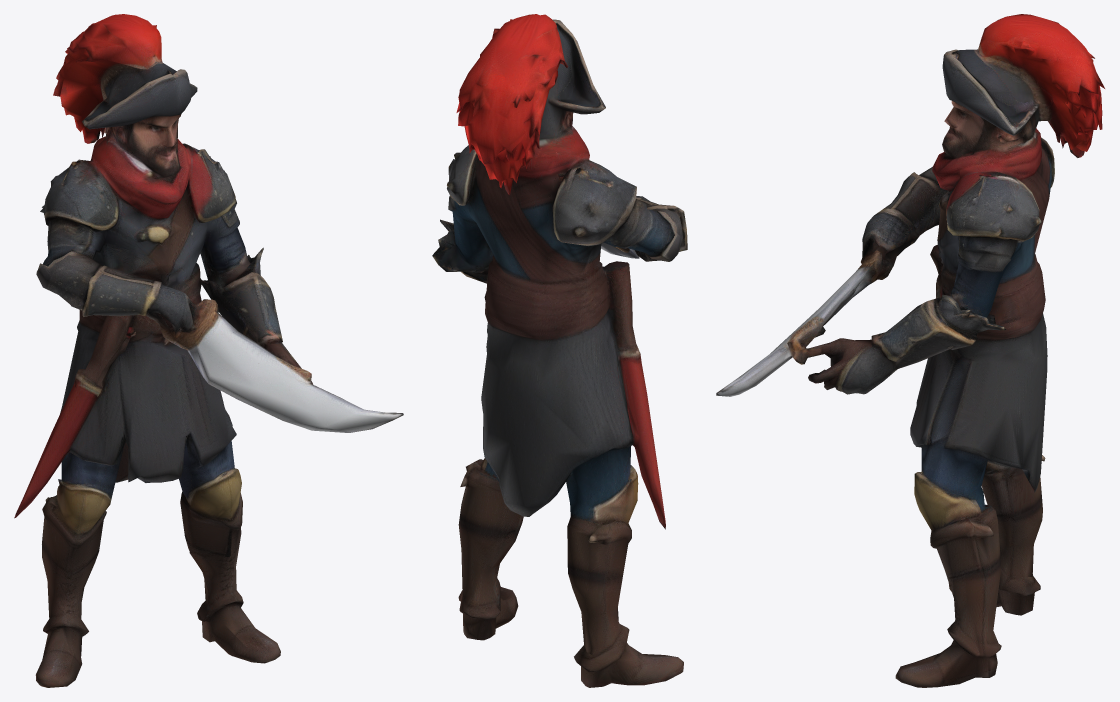
Rendered from bandit_capt.glb.
The picture shows the model from 3 angles, left to right: view 1: azimuth 30°, elevation 25°; view 2: azimuth 150°, elevation 25°; view 3: azimuth 270°, elevation 25°; orthographic projection. The views are drawn at different scales.
Size of the model in its own units: 0.8329 by 2 by 1.13.
Materials: 1 (1 with a texture image).
